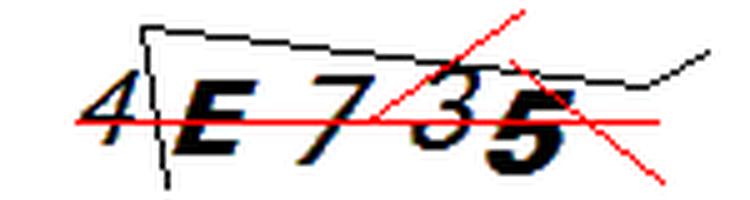3: (403, 58, 484, 158)
4: (69, 62, 151, 155)
5: (480, 81, 588, 182)
7: (284, 67, 382, 172)
E: (169, 69, 262, 165)
